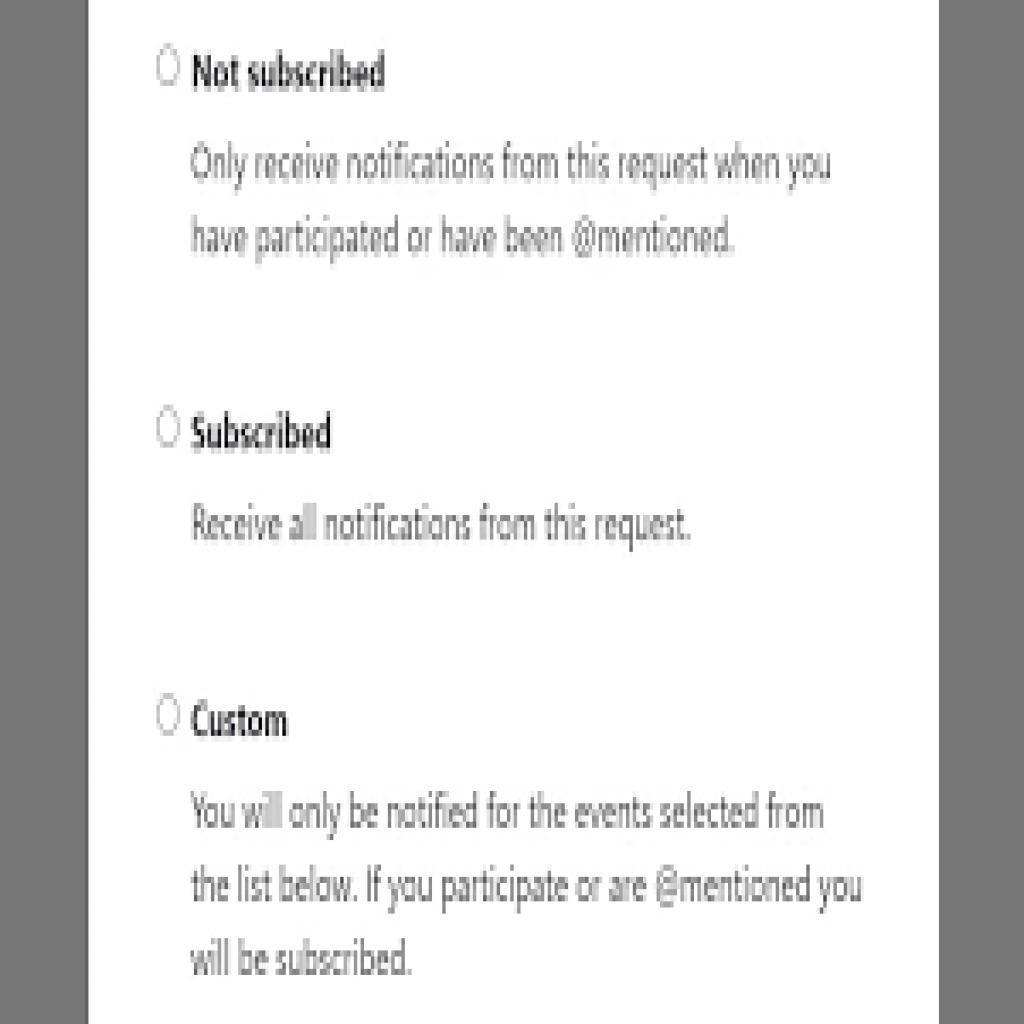radio: (154, 39, 181, 91), (158, 692, 183, 742), (156, 405, 184, 449)
